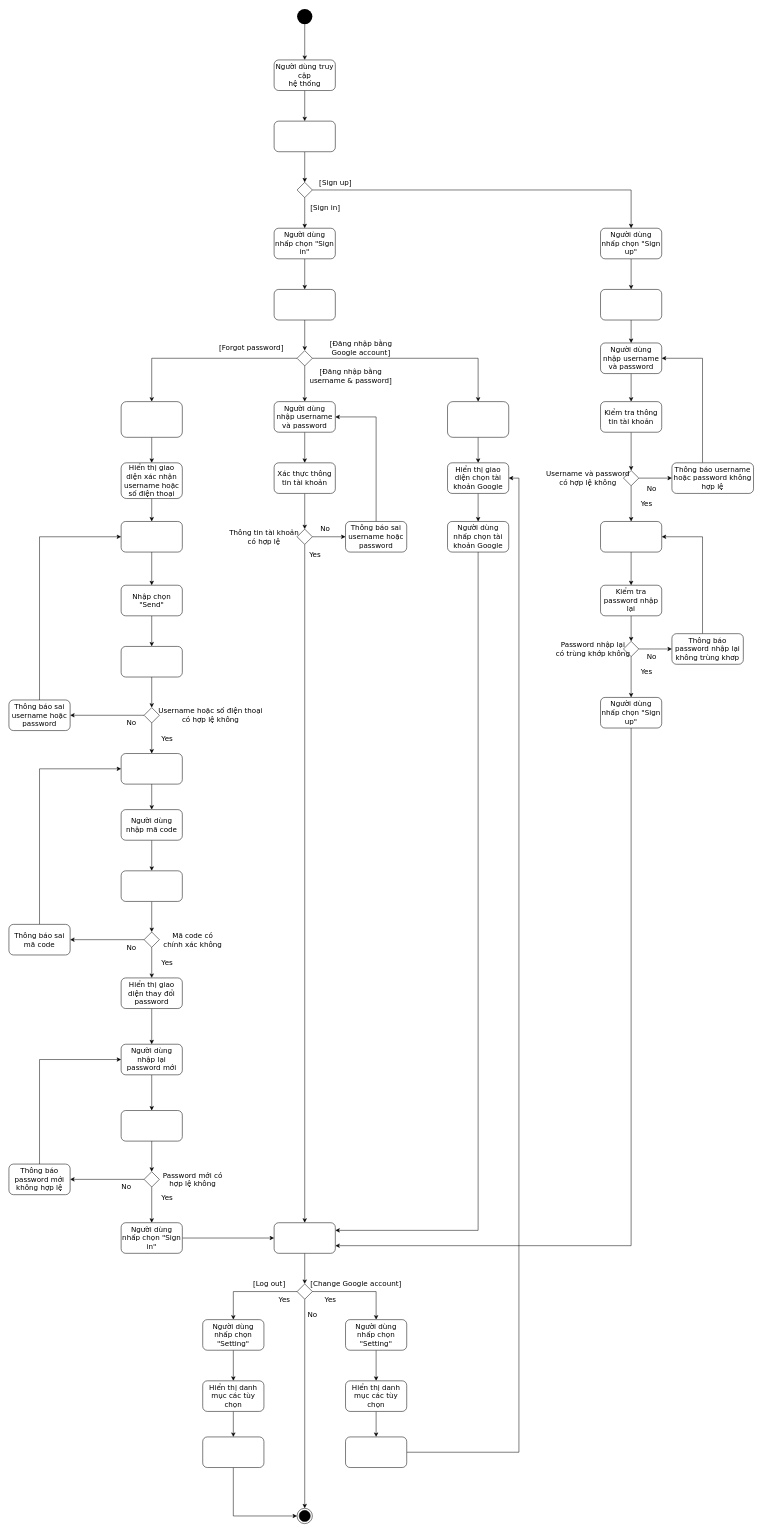
Some shapes in this 762 by 1533 pixel diagram are drawn without their labels. The shapes that lost their labels are listed below. From the top down, each one's centre as x and y in pixels, then its label:
(x=304, y=136): Hiển thị giao diện trang giới thiệu
(x=304, y=304): Hiển thị giao diện trang đăng nhập
(x=631, y=304): Hiển thị giao diện trang đăng ký
(x=151, y=419): Người dùng nhập chọn "Forgot password"
(x=478, y=419): Người dùng nhấp chọn "Login with Google account"
(x=151, y=536): Nhập username hoặc số điện thoại
(x=631, y=536): Người dùng nhập lại password
(x=151, y=661): Xác thực username hoặc số điện thoại
(x=151, y=768): Gửi mã code xác nhận
(x=151, y=885): Xác thực mã code
(x=151, y=1125): Kiểm tra password mới
(x=304, y=1237): Hiển thị giao diện chính
(x=233, y=1452): Người dùng nhấp chọn "Log out"
(x=376, y=1452): Người dùng nhấp chọn "Change Google account"
